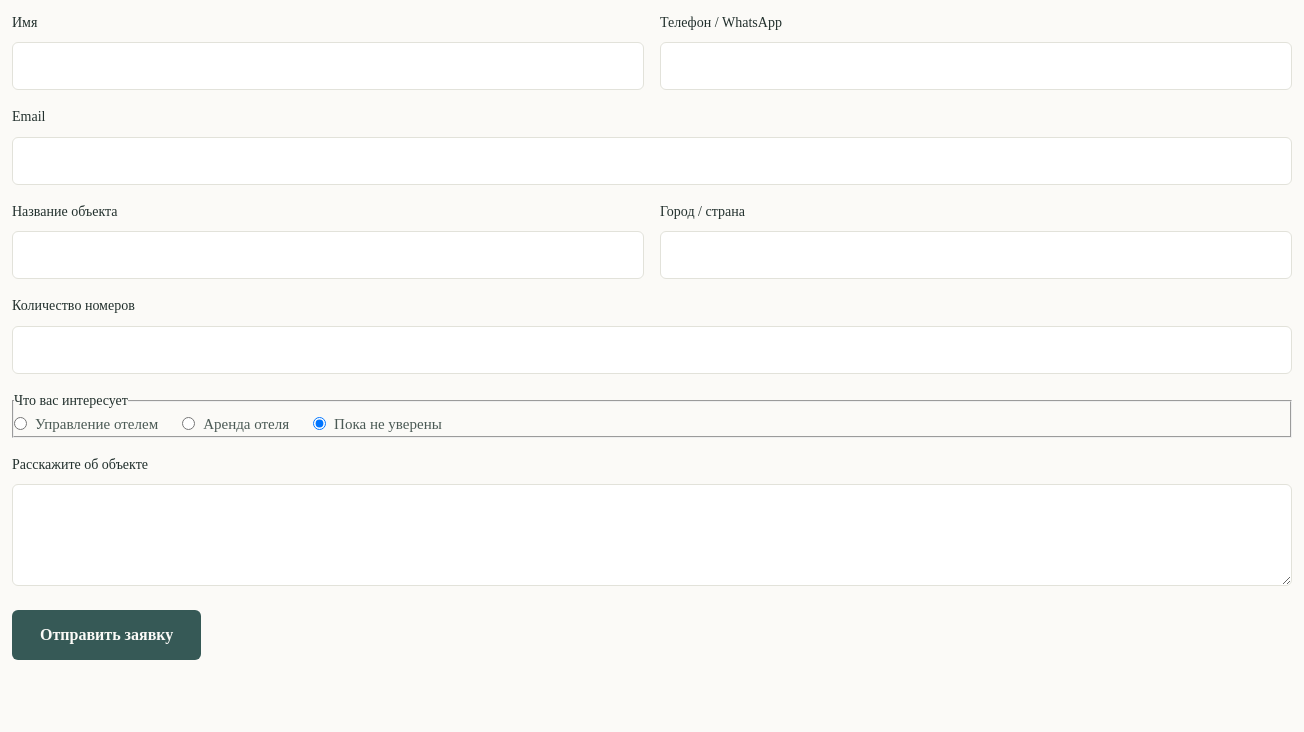
LeadForm › shows an error message when the request fails
Type "Иван Иванов" into the field labelled "Имя" at (328, 66), box [12,42,644,90]
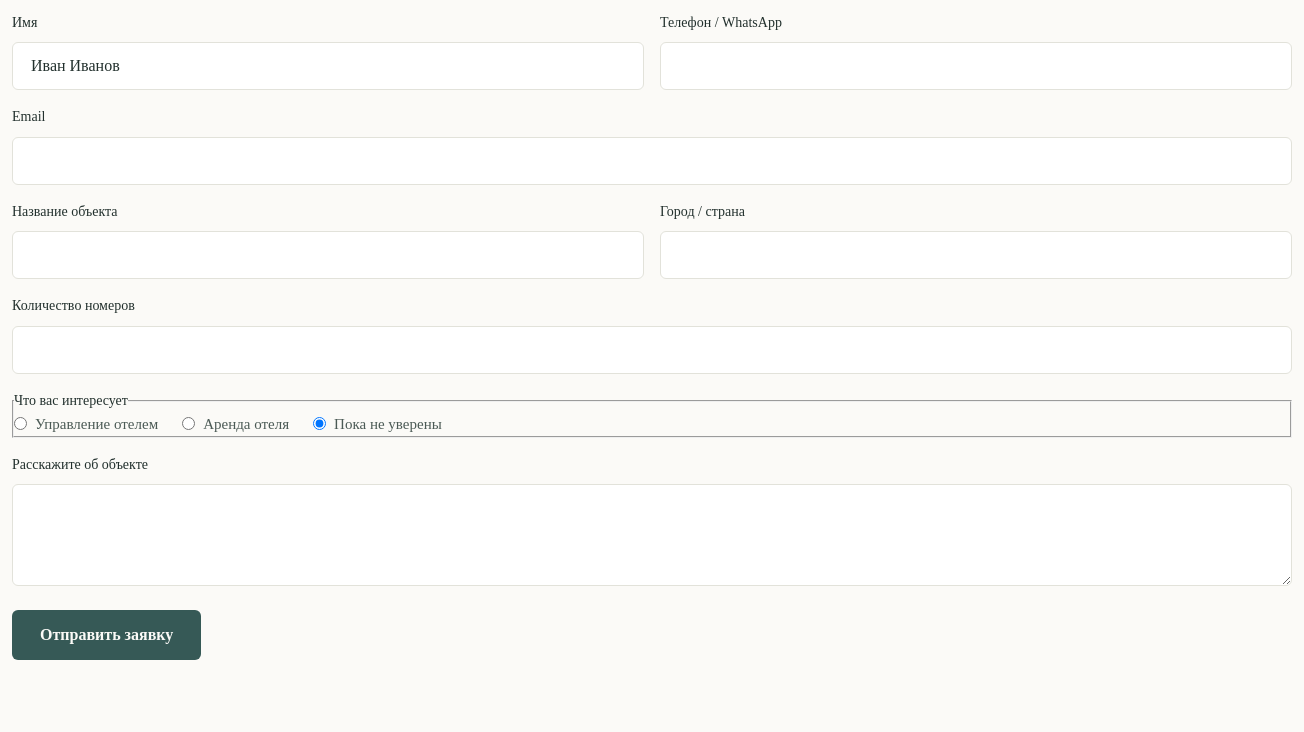
Type "+7 900 000 00 00" into the field labelled "Телефон / WhatsApp" at (976, 66), box [660,42,1292,90]
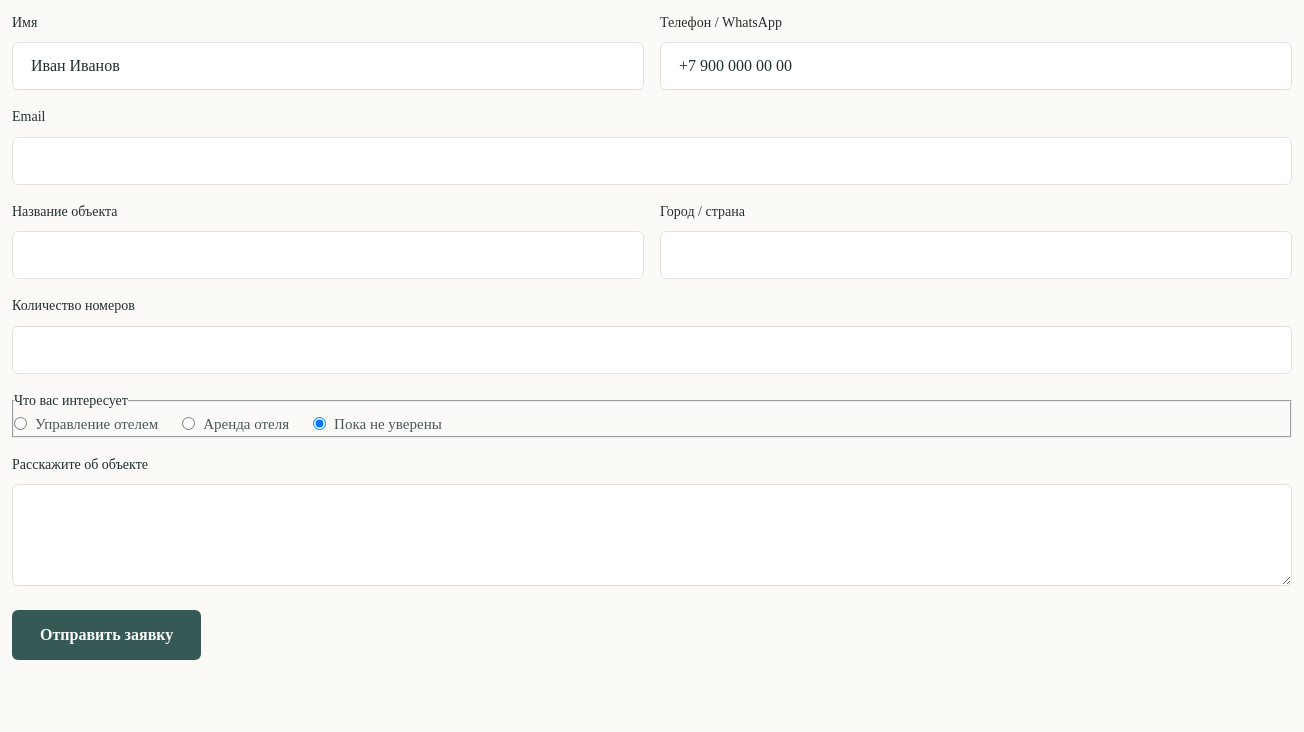
Type "ivan@example.com" into the field labelled "Email" at (652, 161), box [12,137,1292,185]
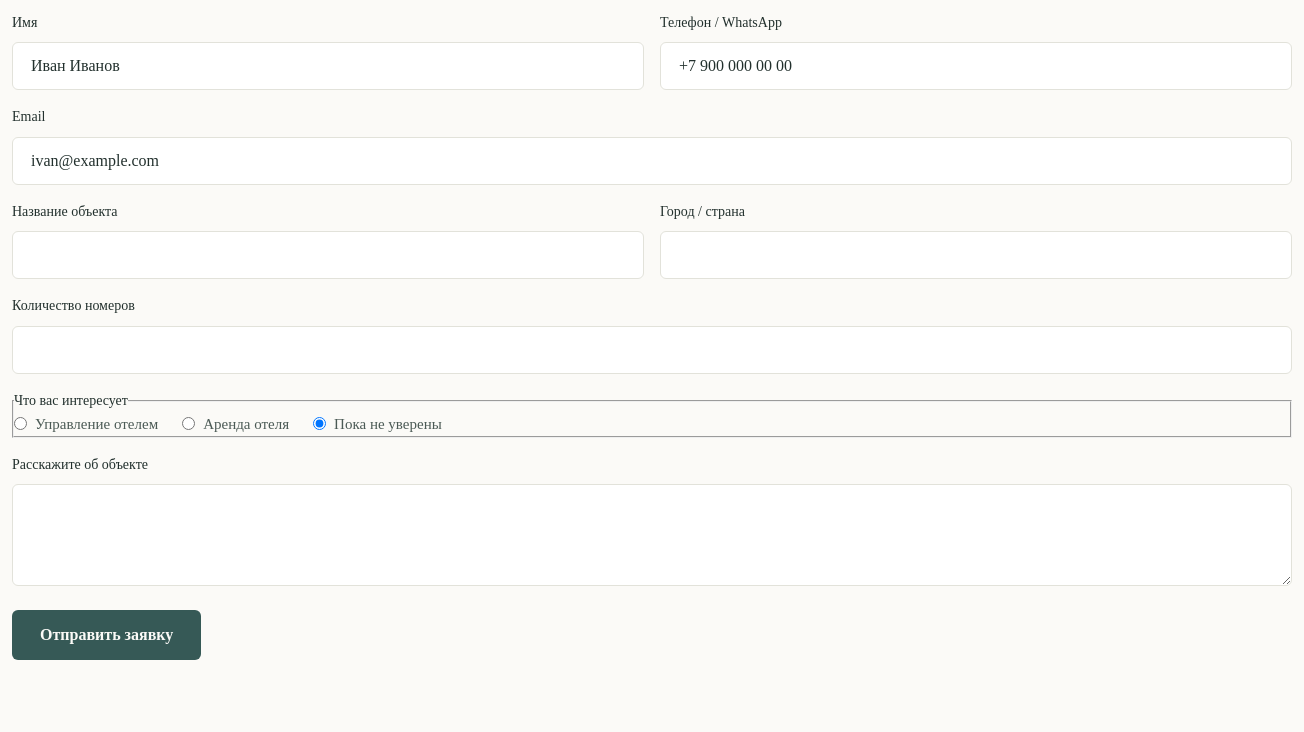
Type "Отель Пример" into the field labelled "Название объекта" at (328, 255), box [12,231,644,279]
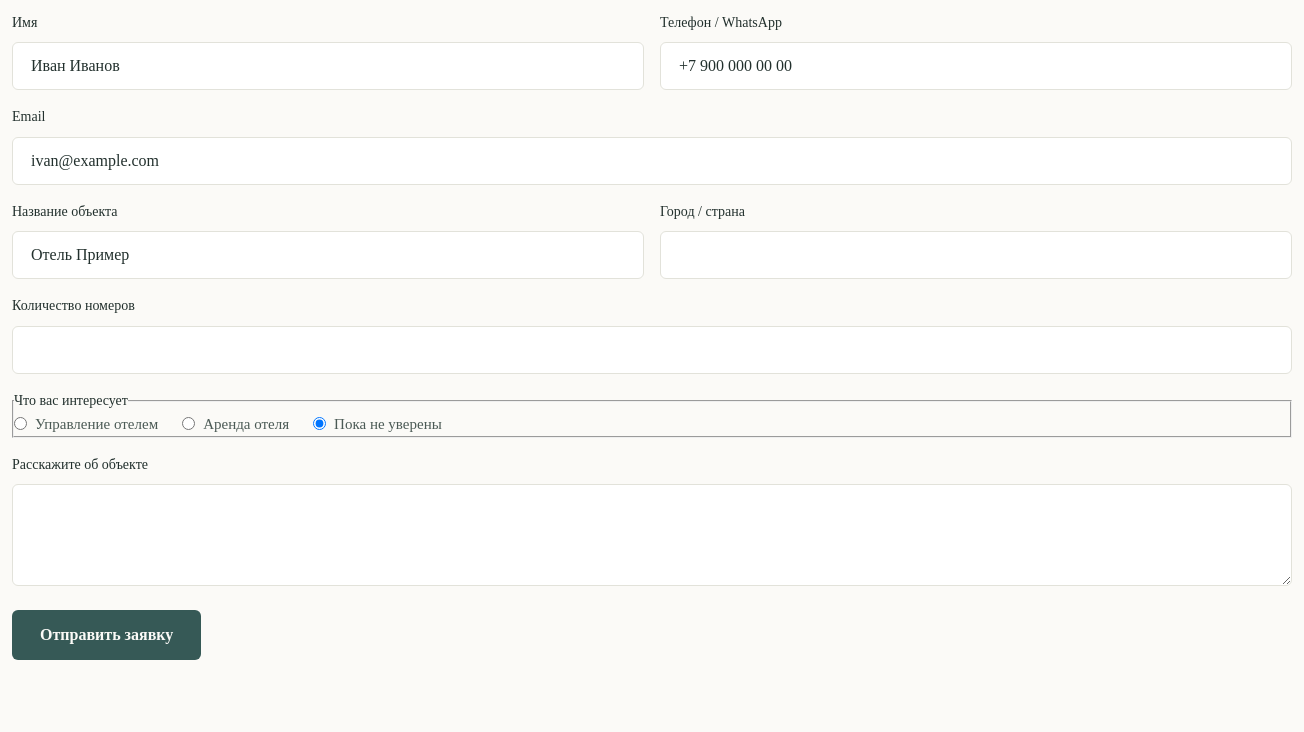
Type "Сочи, Россия" into the field labelled "Город / страна" at (976, 255), box [660,231,1292,279]
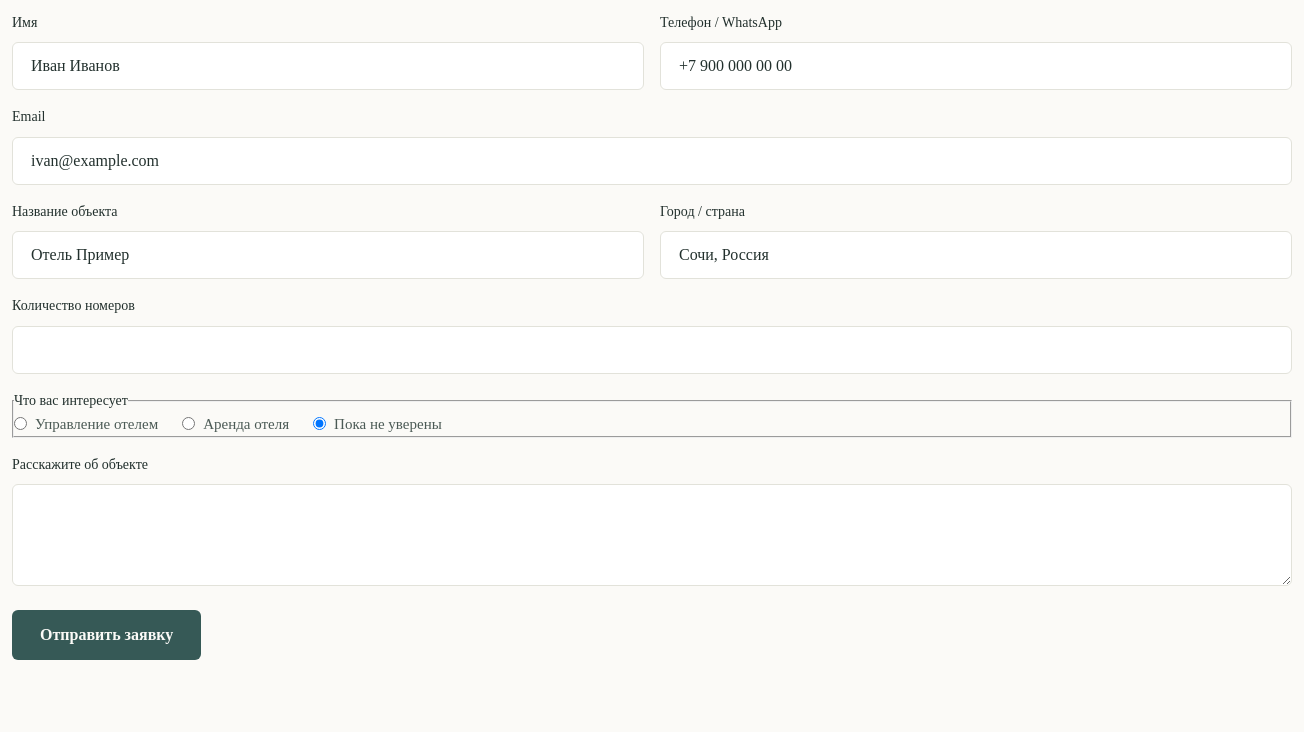
Click the button "Отправить заявку" at (107, 635), box [12,610,201,660]
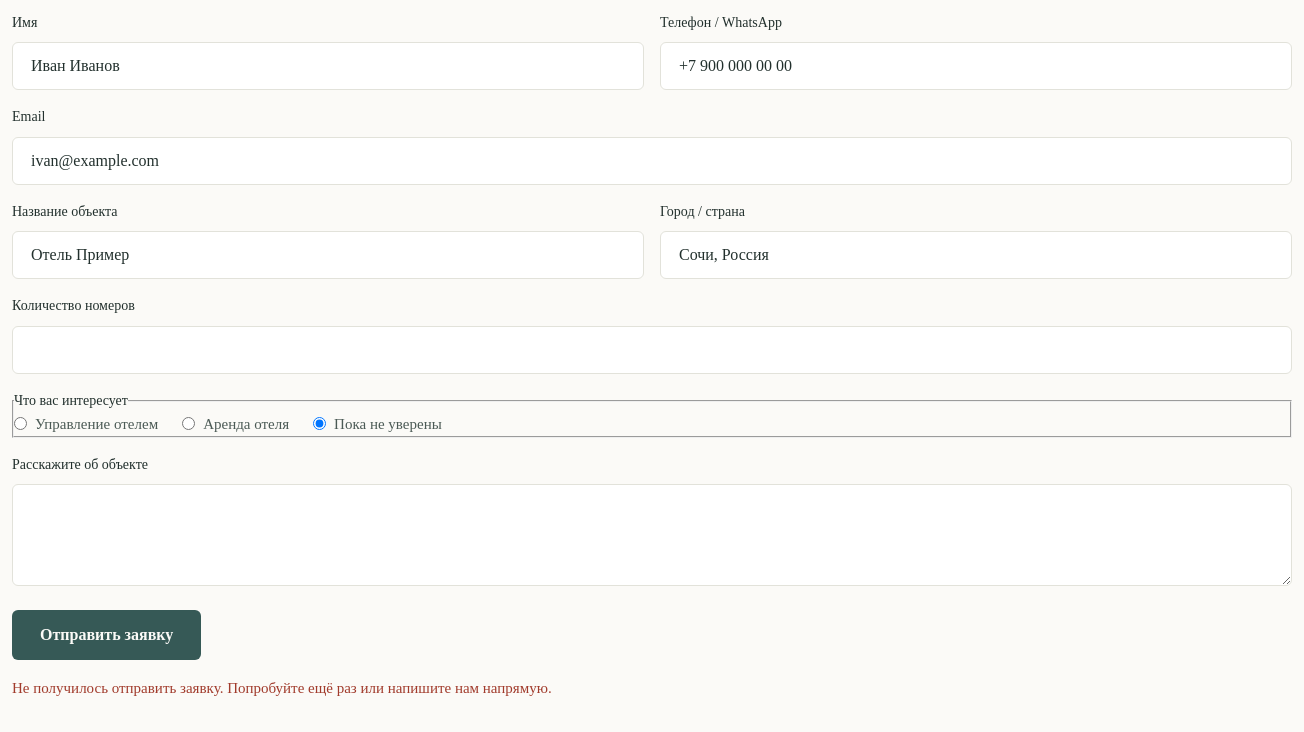
expect the message "Не получилось отправить заявку. Попробуйте ещё раз или напишите нам напрямую." is shown: met, box [12,680,552,696]
